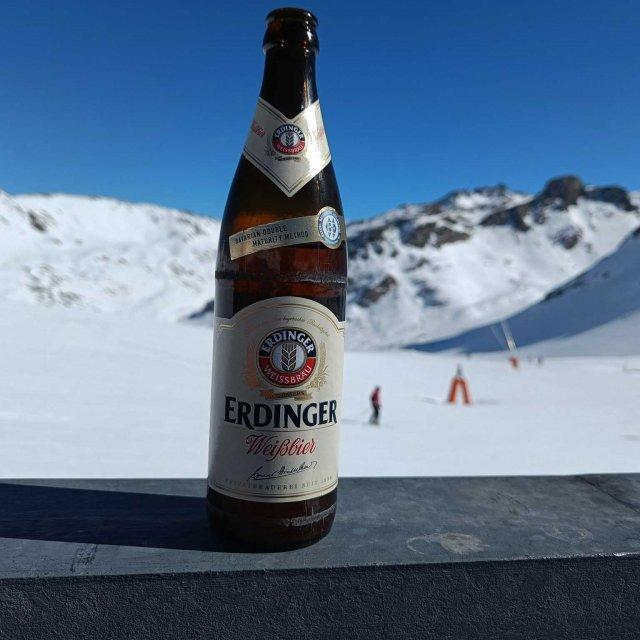Glass: (210, 7, 346, 553)
